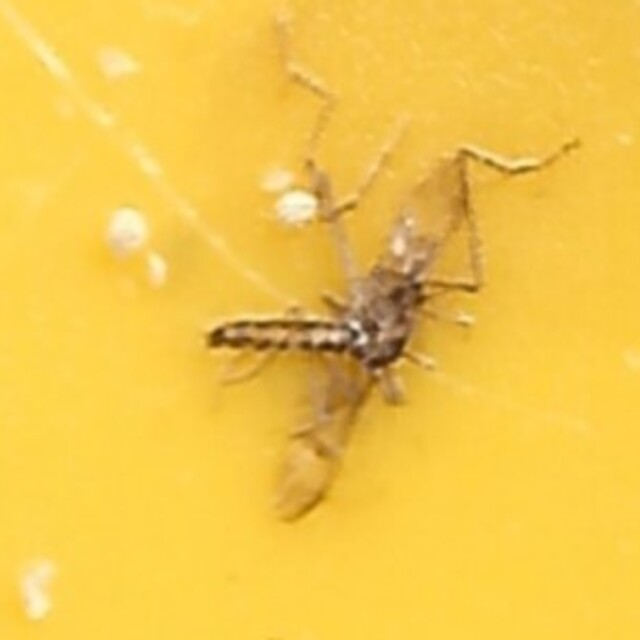Nematocera: (210, 259, 430, 381)
